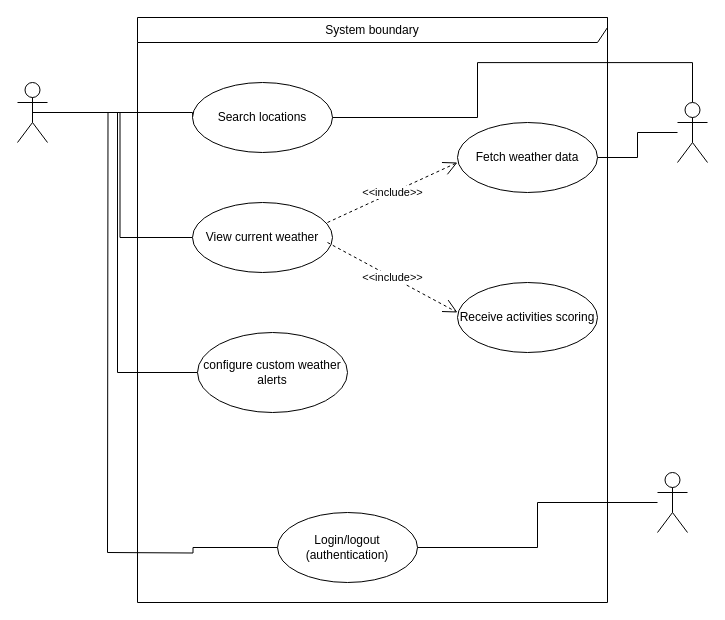
The diagram is 725 pixels wide and 620 high, and some of its shapes have lost their labels. The shapes that lost their labels are listed below. From the top down, each one's box as (x1, y1, x2, y2) in pixels, then its label:
(16, 82, 48, 142): User
(676, 102, 708, 162): API
(656, 472, 688, 532): Firebase
